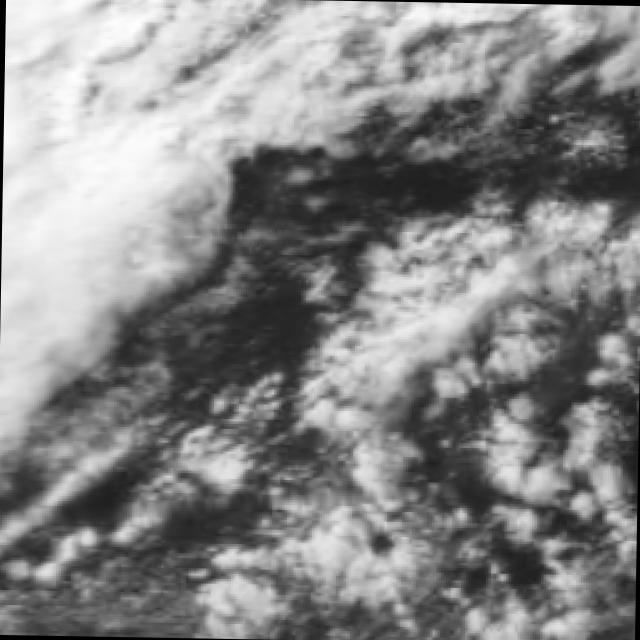CB: (1, 56, 173, 260)
